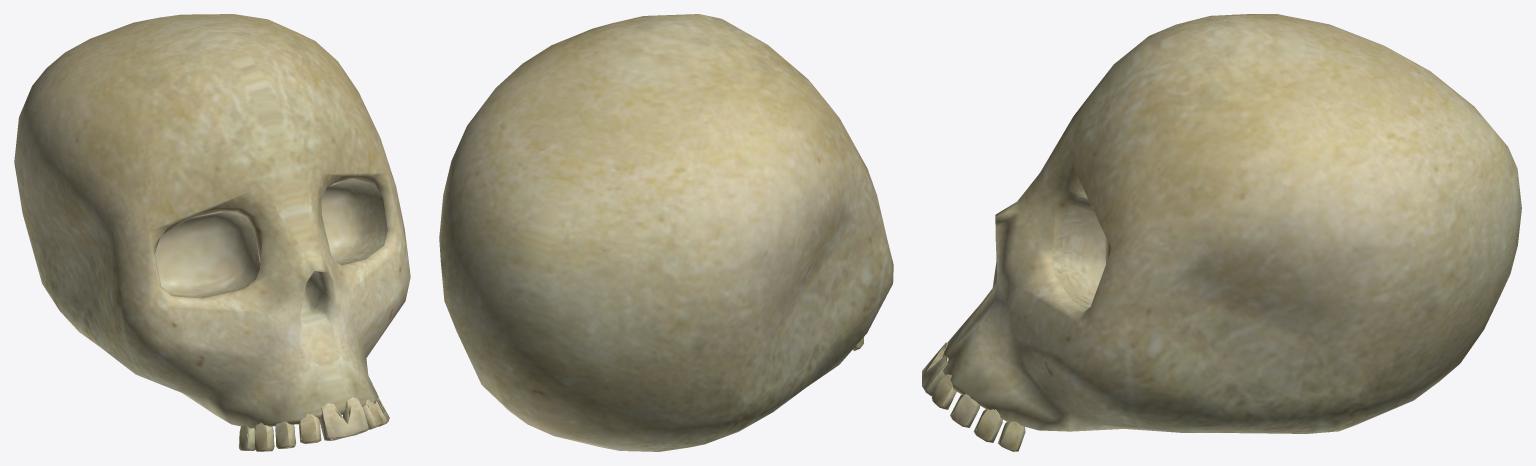
Rendered from skull.glb.
3 views of the same model, side by side, from view 1: azimuth 30°, elevation 25°; view 2: azimuth 150°, elevation 25°; view 3: azimuth 270°, elevation 25° (orthographic). The views are drawn at different scales.
Visible parts, largest first — view 1: Skull_Bone_0; view 2: Skull_Bone_0; view 3: Skull_Bone_0.
Part boxes in pixels (x1=…): Skull_Bone_0: x1=14, y1=14, x2=410, y2=451; Skull_Bone_0: x1=439, y1=14, x2=893, y2=451; Skull_Bone_0: x1=922, y1=14, x2=1521, y2=451.
Size of the model in its own units: 0.045 by 0.0494 by 0.0703.
1 material, 1 textured.
